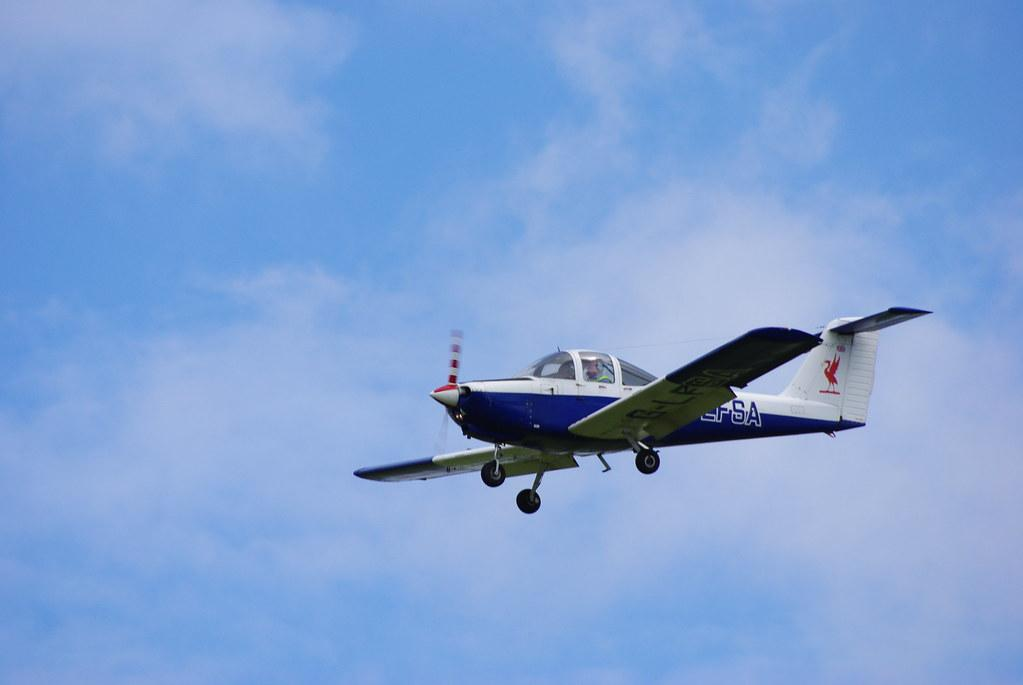plane: (353, 305, 934, 515)
